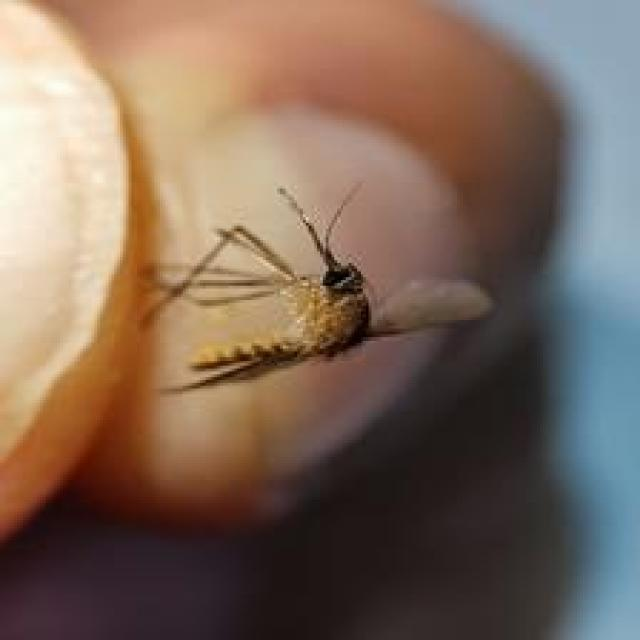Culex: (134, 177, 494, 397)
